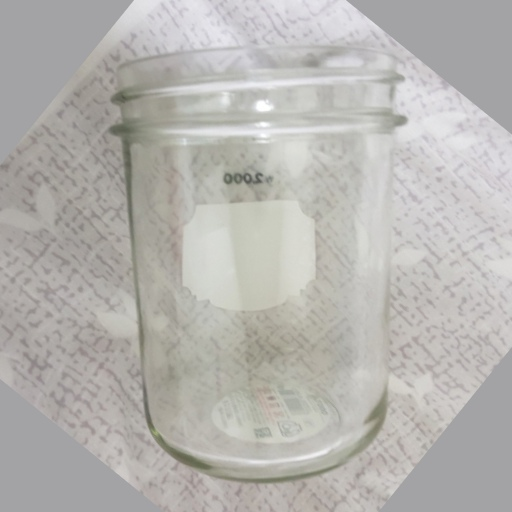Glass_5: (111, 49, 406, 481)
